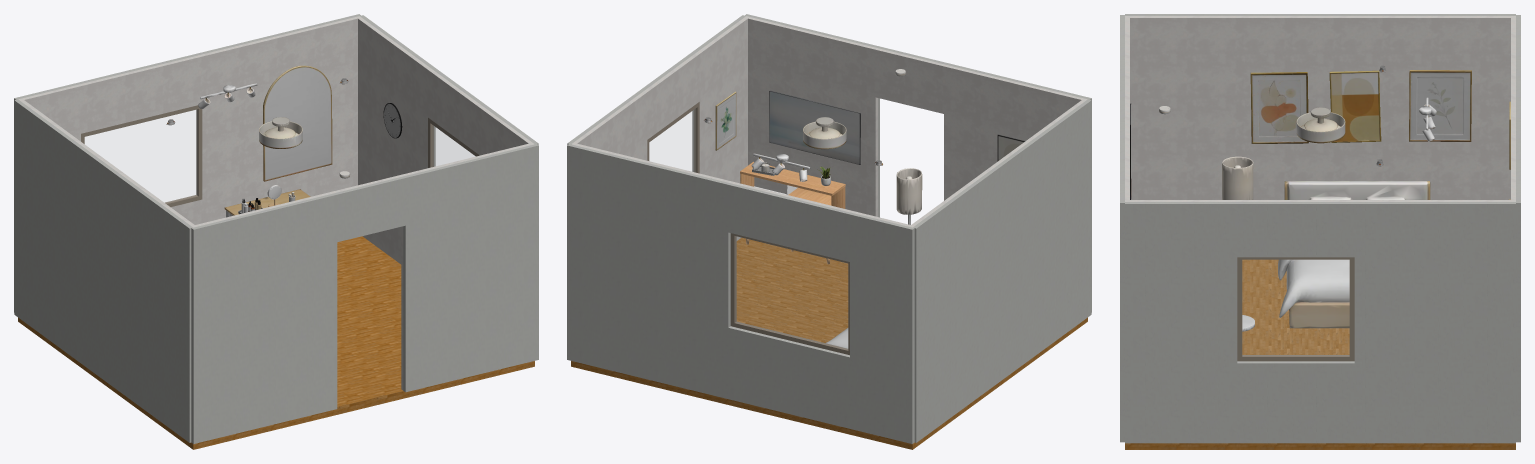
Rendered from scene_web.glb.
The picture shows the model from 3 angles, left to right: view 1: azimuth 30°, elevation 25°; view 2: azimuth 150°, elevation 25°; view 3: azimuth 270°, elevation 25°; orthographic projection. The views are drawn at different scales.
Visible parts, largest first — view 1: geometry_0.003, geometry_0.007, geometry_0, geometry_0.004, Mesh_0, glass, geometry_0.016, geometry_0.002, frame, geometry_0.001, geometry_0.022, glass.001 (+4 smaller); view 2: geometry_0.001, geometry_0.007, geometry_0.002, Mesh_0, geometry_0.004, glass, geometry_0.018, glass.001, frame, P_a4732598bed78f1f.001, geometry_0.003, geometry_0.012 (+7 smaller); view 3: geometry_0.005, geometry_0.006, glass.001, Mesh_0, geometry_0.008, geometry_0.015, geometry_0.013, geometry_0.014, frame.001, geometry_0.001, geometry_0.003, geometry_0.012 (+6 smaller).
Boxes of the visible parts, box(x1,y1,x2,y2) form: geometry_0.003: box(191, 144, 538, 443); geometry_0.007: box(14, 99, 192, 442); geometry_0: box(22, 17, 357, 224); geometry_0.004: box(356, 16, 534, 264); Mesh_0: box(18, 236, 534, 449); glass: box(85, 110, 196, 202); geometry_0.016: box(263, 65, 332, 181); geometry_0.002: box(195, 143, 530, 390); frame: box(81, 105, 202, 207); geometry_0.001: box(14, 14, 360, 312); geometry_0.022: box(259, 117, 302, 148); glass.001: box(432, 125, 474, 166); geometry_0.001: box(567, 144, 914, 443); geometry_0.007: box(913, 99, 1091, 442); geometry_0.002: box(748, 17, 1083, 216); Mesh_0: box(571, 237, 1087, 449); geometry_0.004: box(571, 16, 749, 240); glass: box(736, 236, 847, 349); geometry_0.018: box(769, 90, 860, 164); glass.001: box(649, 109, 695, 171); frame: box(730, 233, 849, 355); P_a4732598bed78f1f.001: box(740, 161, 845, 208); geometry_0.003: box(745, 14, 1091, 312); geometry_0.012: box(896, 168, 922, 224); geometry_0.005: box(1125, 202, 1515, 443); geometry_0.006: box(1125, 16, 1515, 199); glass.001: box(1242, 260, 1349, 355); Mesh_0: box(1125, 259, 1515, 449); geometry_0.008: box(1278, 181, 1430, 328); geometry_0.015: box(1409, 70, 1471, 141); geometry_0.013: box(1250, 72, 1308, 143); geometry_0.014: box(1329, 70, 1381, 142); frame.001: box(1237, 257, 1354, 361); geometry_0.001: box(1516, 15, 1520, 442); geometry_0.003: box(1120, 15, 1124, 442); geometry_0.012: box(1222, 156, 1254, 331).
Bounding box in the file's own units: 4.6 × 2.8 × 4.1.
45 materials, 40 textured.
